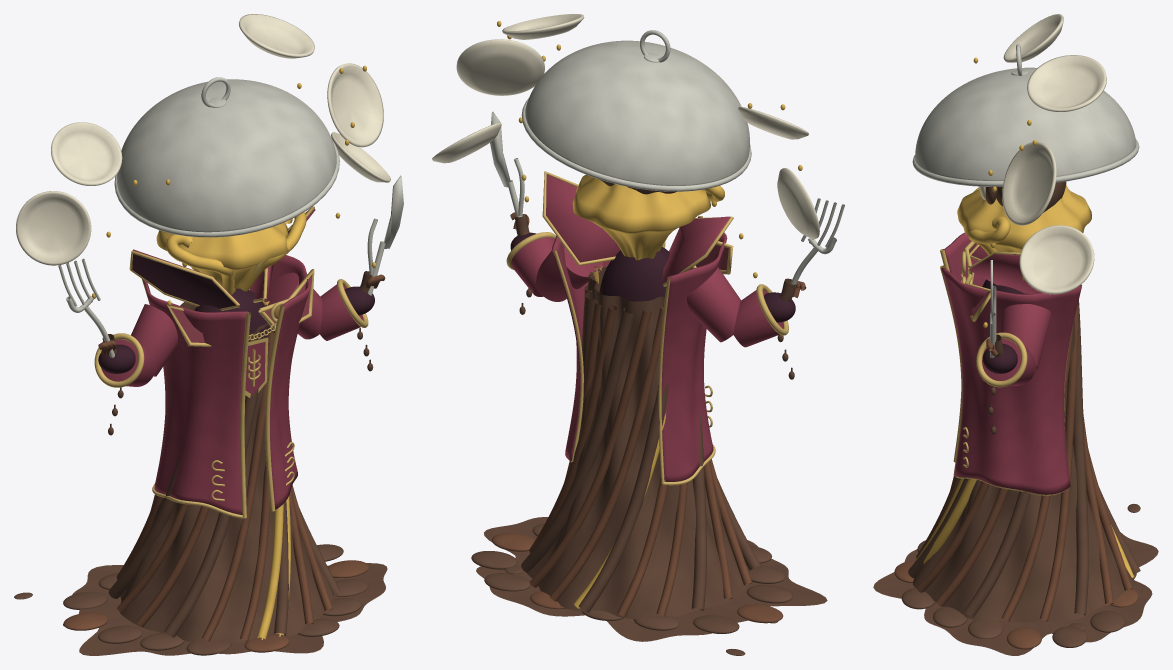
The model's file is final_boss.glb.
The picture shows the model from 3 angles, left to right: view 1: azimuth 30°, elevation 25°; view 2: azimuth 150°, elevation 25°; view 3: azimuth 270°, elevation 25°; orthographic projection. The views are drawn at different scales.
Parts seen in each view (by area): view 1: Sauce_brown_liquid, Cloche_silver, Costume_wine, OrbitPlates_ivory, Sauce_sauce_light, Head_gold_liquid, Costume_gold_trim, Costume_lining, LeftArm_wine, RightArm_wine, Sauce_gold_liquid, RightArm_silver (+5 smaller); view 2: Sauce_brown_liquid, Cloche_silver, Costume_wine, Sauce_sauce_light, OrbitPlates_ivory, Head_gold_liquid, LeftArm_wine, Costume_gold_trim, RightArm_wine, Costume_lining, RightArm_silver, LeftArm_silver (+1 smaller); view 3: Sauce_brown_liquid, Costume_wine, Cloche_silver, OrbitPlates_ivory, Sauce_sauce_light, Head_gold_liquid, RightArm_wine, Costume_gold_trim, Sauce_gold_liquid, RightArm_gold_trim, RightArm_lining, Head_brown_liquid (+1 smaller).
Boxes of the visible parts, box(x1,y1,x2,y2) form: Sauce_brown_liquid: box(14, 301, 387, 655); Cloche_silver: box(114, 77, 339, 237); Costume_wine: box(133, 209, 315, 514); OrbitPlates_ivory: box(16, 14, 390, 265); Sauce_sauce_light: box(63, 331, 369, 652); Head_gold_liquid: box(92, 65, 376, 306); Costume_gold_trim: box(129, 206, 314, 518); Costume_lining: box(132, 254, 270, 339); LeftArm_wine: box(101, 304, 177, 386); RightArm_wine: box(264, 272, 363, 340); Sauce_gold_liquid: box(257, 301, 290, 639); RightArm_silver: box(367, 175, 403, 295); Sauce_brown_liquid: box(471, 266, 827, 655); Cloche_silver: box(521, 30, 751, 191); Costume_wine: box(546, 174, 730, 481); Sauce_sauce_light: box(492, 281, 783, 623); OrbitPlates_ivory: box(432, 14, 819, 239); Head_gold_liquid: box(497, 21, 802, 278); LeftArm_wine: box(687, 267, 783, 347); Costume_gold_trim: box(542, 171, 733, 485); RightArm_wine: box(511, 237, 603, 301); Costume_lining: box(599, 247, 669, 301); RightArm_silver: box(490, 111, 524, 217); LeftArm_silver: box(791, 198, 844, 286); Sauce_brown_liquid: box(873, 286, 1158, 655); Costume_wine: box(941, 232, 1081, 494); Cloche_silver: box(912, 44, 1139, 186); OrbitPlates_ivory: box(1002, 14, 1106, 294); Sauce_sauce_light: box(894, 303, 1138, 649); Head_gold_liquid: box(957, 57, 1091, 327); RightArm_wine: box(982, 304, 1051, 385); Costume_gold_trim: box(940, 241, 1081, 495); Sauce_gold_liquid: box(913, 478, 1134, 577); RightArm_gold_trim: box(976, 332, 1027, 387); RightArm_lining: box(983, 343, 1017, 373); Head_brown_liquid: box(985, 181, 1066, 212).
Size of the model in its own units: 5.08 by 7.2 by 3.39.
